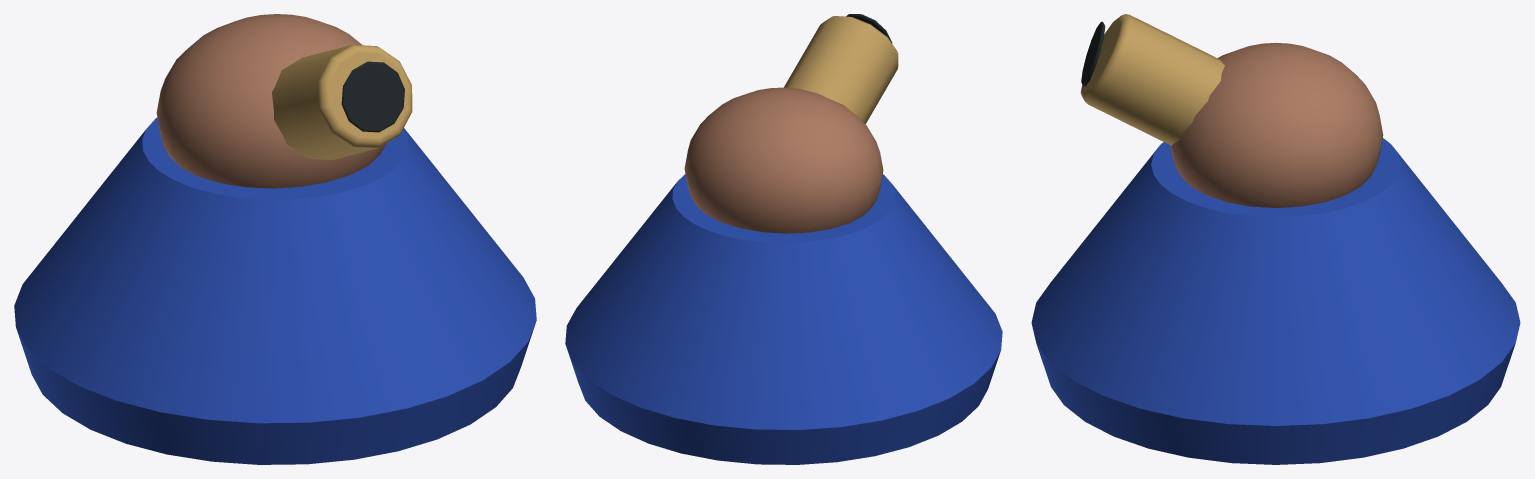
3 renders of one model, left to right at view 1: azimuth 30°, elevation 25°; view 2: azimuth 150°, elevation 25°; view 3: azimuth 270°, elevation 25°, orthographic. The views are drawn at different scales.
Parts seen in each view (by area): view 1: Turret armoured pedestal, Weapon pivot, Weapon barrel, Weapon dark bore; view 2: Turret armoured pedestal, Weapon pivot, Weapon barrel; view 3: Turret armoured pedestal, Weapon pivot, Weapon barrel, Weapon dark bore.
Boxes of the visible parts, x1,y1,x2,y2 form: Turret armoured pedestal: [14, 117, 536, 464]; Weapon pivot: [156, 14, 385, 188]; Weapon barrel: [272, 45, 412, 160]; Weapon dark bore: [341, 61, 404, 132]; Turret armoured pedestal: [565, 174, 1002, 464]; Weapon pivot: [684, 87, 883, 233]; Weapon barrel: [784, 16, 898, 123]; Turret armoured pedestal: [1031, 138, 1520, 464]; Weapon pivot: [1170, 43, 1383, 207]; Weapon barrel: [1080, 14, 1224, 145]; Weapon dark bore: [1081, 21, 1105, 86].
Bounding box in the file's own units: 1.96 × 1.54 × 1.96.
